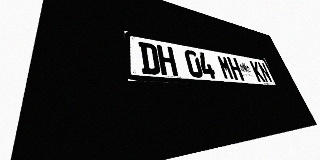0: (183, 49, 204, 78)
4: (197, 51, 216, 79)
D: (138, 41, 161, 75)
H: (156, 45, 178, 76), (226, 57, 245, 81)
K: (249, 60, 266, 82)
M: (216, 55, 235, 80)
N: (257, 62, 273, 83)
